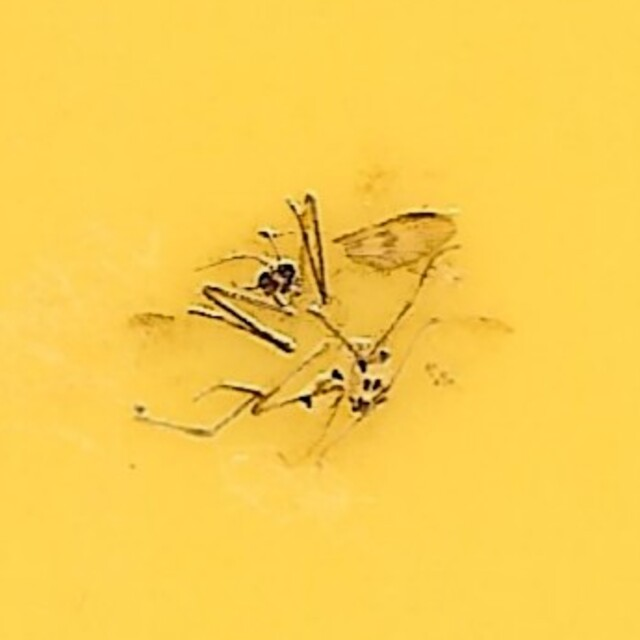Nematocera: (186, 192, 454, 448)
